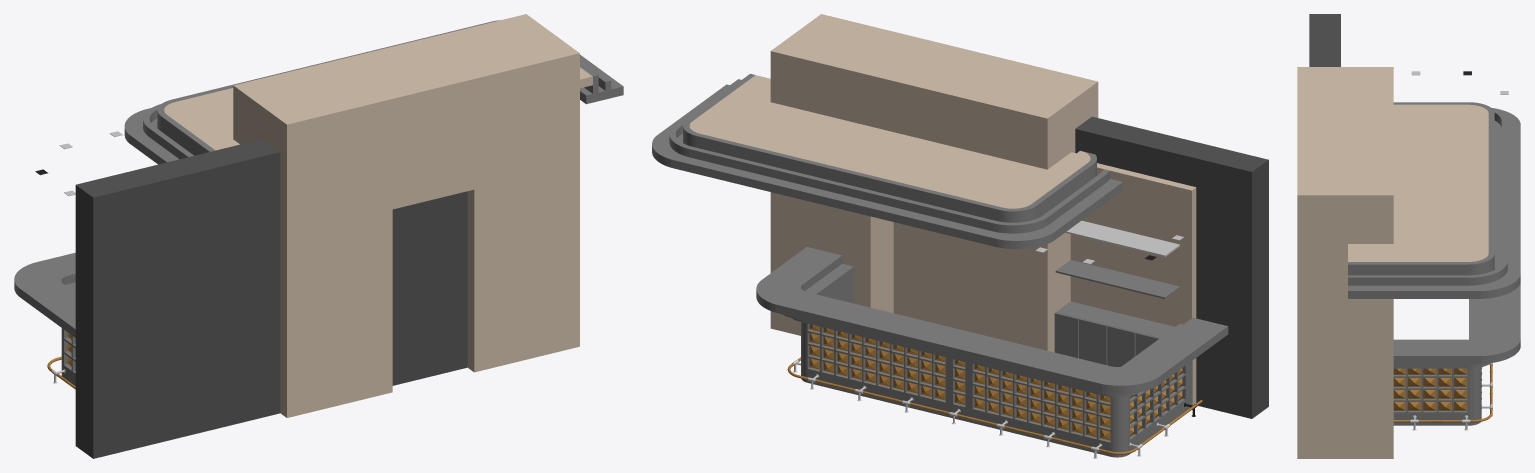
Rendered from Rack_bar N110510.fbx.
3 views of the same model, side by side, from view 1: azimuth 30°, elevation 25°; view 2: azimuth 150°, elevation 25°; view 3: azimuth 270°, elevation 25° (orthographic). The views are drawn at different scales.
Visible parts, largest first — view 1: PivotDoor0, Rectangle0, Line01, Line08, Line1886, Line1888, Line1887, Line02; view 2: PivotDoor0, Rectangle0, Line08, Line02, Line01, Line09, Pyramid01, Line1888, Line1886, Line1887, Fasad_04, polka (+5 smaller); view 3: PivotDoor0, Line08, Line1888, Line01, Line02, Line1886, Line1887, Pyramid01, Rectangle0, bar_podsta, Line07, Line04.
Boxes of the visible parts, x1,y1,x2,y2 form: PivotDoor0: (233, 14, 579, 417); Rectangle0: (75, 139, 467, 458); Line01: (14, 252, 75, 337); Line08: (164, 67, 592, 150); Line1886: (157, 20, 598, 155); Line1888: (124, 55, 623, 164); Line1887: (143, 58, 611, 159); Line02: (61, 282, 75, 385); PivotDoor0: (770, 14, 1098, 352); Rectangle0: (1075, 116, 1268, 418); Line08: (689, 75, 1090, 208); Line02: (801, 264, 1192, 457); Line01: (756, 247, 1228, 393); Line09: (1070, 163, 1196, 405); Pyramid01: (809, 324, 1182, 440); Line1888: (652, 84, 1122, 249); Line1886: (683, 73, 1096, 222); Line1887: (669, 79, 1109, 233); Fasad_04: (1054, 312, 1159, 366); polka: (1055, 260, 1179, 298); PivotDoor0: (1297, 67, 1393, 458); Line08: (1348, 104, 1488, 261); Line1888: (1348, 108, 1520, 298); Line01: (1393, 283, 1520, 363); Line02: (1393, 299, 1481, 425); Line1886: (1348, 102, 1494, 275); Line1887: (1348, 108, 1507, 285); Pyramid01: (1393, 367, 1481, 410); Rectangle0: (1309, 14, 1340, 66); bar_podsta: (1393, 364, 1492, 422); Line07: (1393, 363, 1489, 368); Line04: (1393, 363, 1489, 366).
Size of the model in its own units: 663 by 337 by 259.
